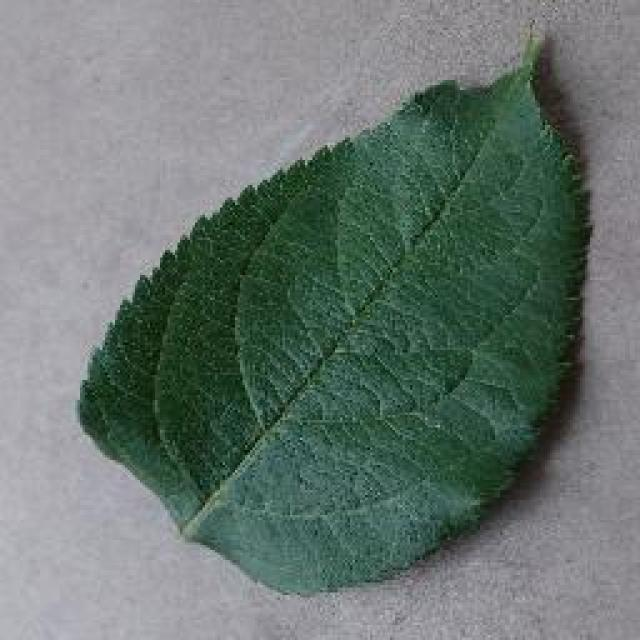apple healthy: (75, 20, 595, 598)
